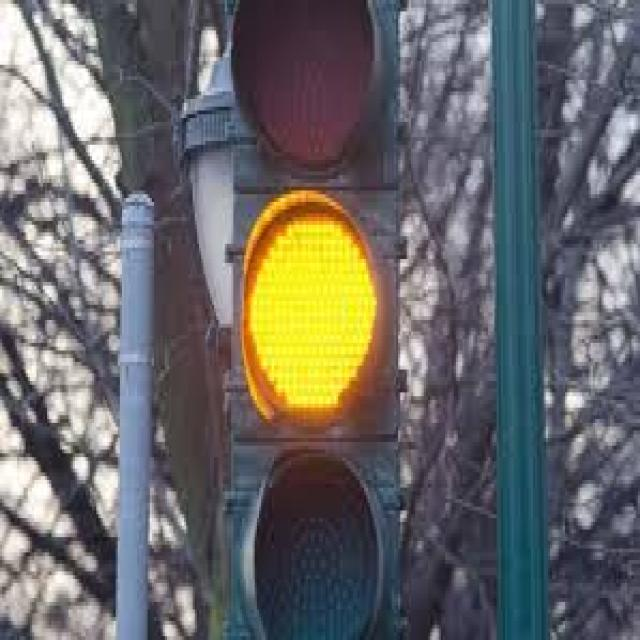yellow: (219, 0, 396, 640)
